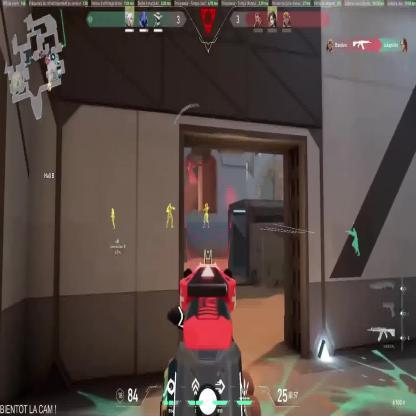enemy: (166, 203, 175, 228), (203, 202, 209, 228), (110, 206, 115, 230)
enemy_head: (205, 203, 208, 208), (111, 208, 113, 212), (169, 203, 171, 206)
